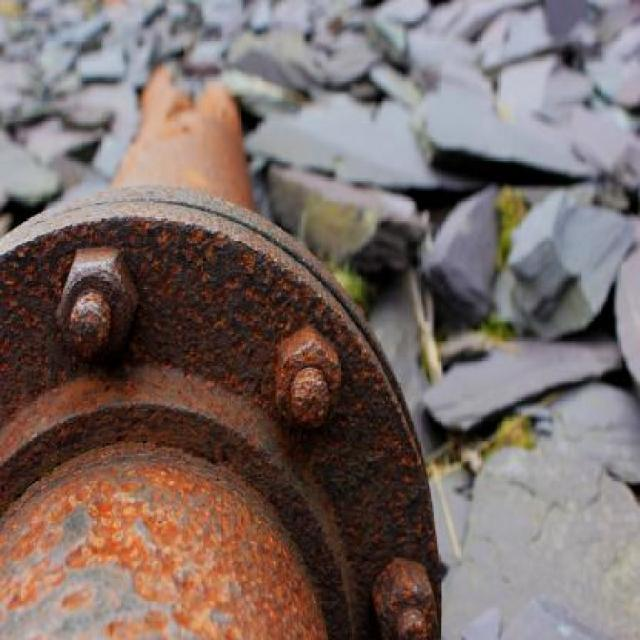corrosion: (6, 48, 443, 640)
